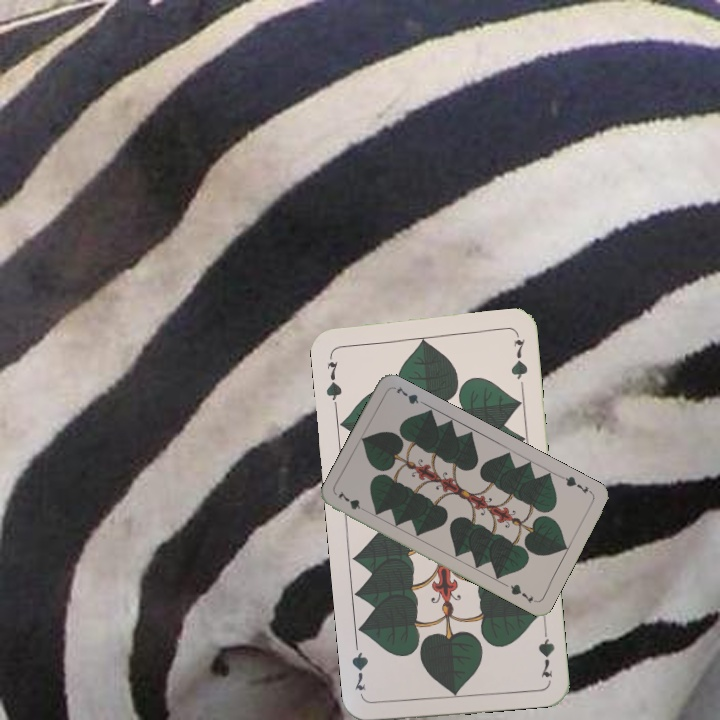G7: (534, 621, 557, 680), (322, 357, 345, 409), (333, 487, 371, 515), (557, 472, 595, 497)
